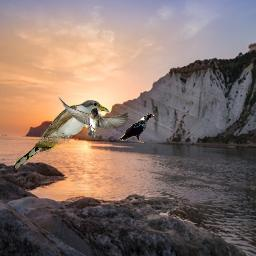Crow: (118, 113, 155, 143)
Cuckoo: (11, 99, 111, 171)
Swallow: (57, 96, 131, 140)
